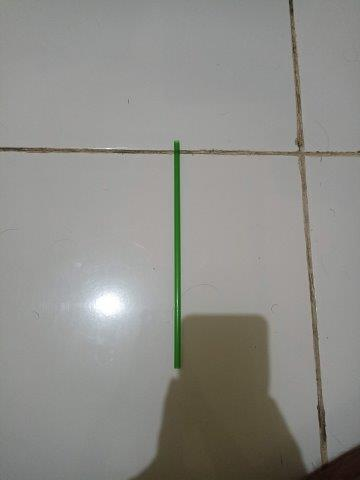sedotan: (174, 140, 182, 369)
